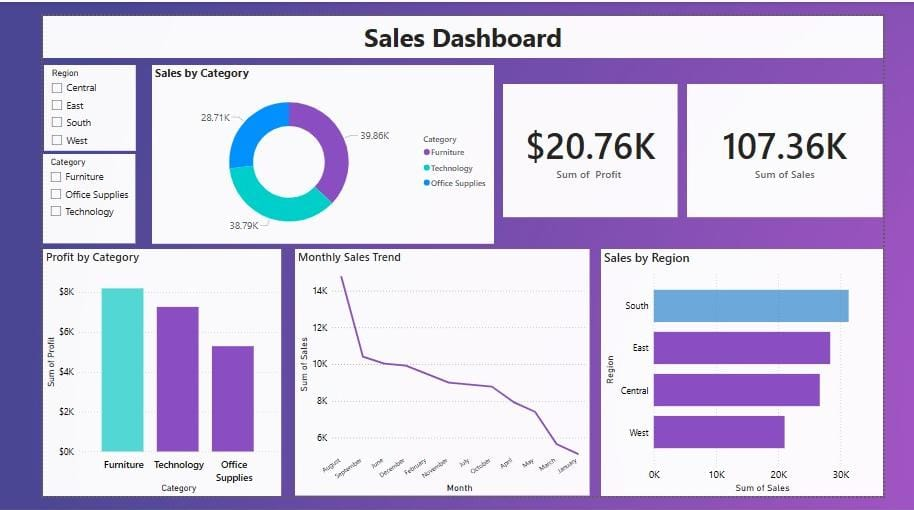

Layout of this report page (visuals, bound fields, positions):
{"tool":"powerbi","page":{"name":"Page 1","canvas":[1400,800],"ordinal":0},"visuals":[{"type":"lineChart","title":"Monthly Sales Trend","fields":{"Y":["Sum(Superstore_Cleaned.Sales)"],"Category":["Superstore_Cleaned.Month"]},"box":[420.8,388.8,491.2,411.2],"z":0},{"type":"clusteredBarChart","title":"Sales by Region","fields":{"Category":["Superstore_Cleaned.Region"],"Y":["Sum(Superstore_Cleaned.Sales)"]},"box":[929.7,387.7,470.3,411.5],"z":1},{"type":"donutChart","title":" Sales by Category","fields":{"Category":["Superstore_Cleaned.Category"],"Y":["Sum(Superstore_Cleaned.Sales)"]},"box":[181.7,81.7,570,298.3],"z":2},{"type":"card","fields":{"Values":["Sum(Superstore_Cleaned. Profit )"]},"box":[766.4,113.6,291.2,222.4],"z":4},{"type":"columnChart","title":" Profit  by Category","fields":{"Category":["Superstore_Cleaned.Category"],"Y":["Sum(Superstore_Cleaned. Profit )"]},"box":[0,387.7,396.9,411.5],"z":5},{"type":"textbox","box":[0,0,1400,69.8],"z":6},{"type":"slicer","fields":{"Values":["Superstore_Cleaned.Region"]},"box":[1.7,81.7,153.3,143.3],"z":7},{"type":"slicer","fields":{"Values":["Superstore_Cleaned.Category"]},"box":[0,229.7,154.3,148.8],"z":8},{"type":"card","fields":{"Values":["Sum(Superstore_Cleaned.Sales)"]},"box":[1073.6,113.6,326.4,222.4],"z":9}]}

Visuals, with their boxes in screenshot pixels (x1, y1, x2, y2), scaled from the page's 1400x800 canvas onto the 914x510 screenshot:
"Monthly Sales Trend" lineChart: l=275, t=248, r=595, b=509
"Sales by Region" clusteredBarChart: l=607, t=247, r=913, b=509
" Sales by Category" donutChart: l=119, t=52, r=491, b=242
card - Sum(Superstore_Cleaned. Profit ): l=500, t=72, r=690, b=214
" Profit  by Category" columnChart: l=0, t=247, r=259, b=509
textbox: l=0, t=0, r=913, b=44
slicer - Superstore_Cleaned.Region: l=1, t=52, r=101, b=143
slicer - Superstore_Cleaned.Category: l=0, t=146, r=101, b=241
card - Sum(Superstore_Cleaned.Sales): l=701, t=72, r=913, b=214
